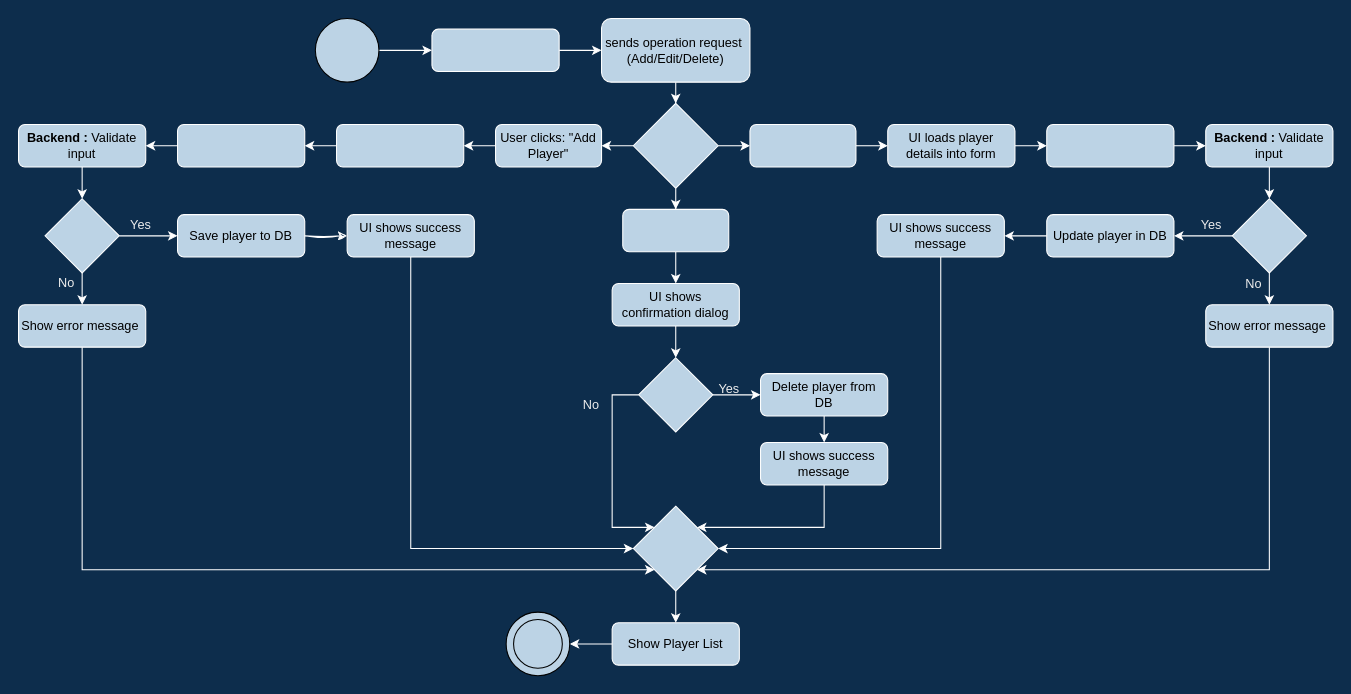
Some shapes in this 1351 by 694 pixel diagram are drawn without their labels. The shapes that lost their labels are listed below. From the top down, each one's centre as x and y in pixels, then its label:
point 495,50: Open Manage Players Page
point 240,145: User enters data
point 399,145: UI opens Add Player Form
point 802,145: User clicks: "Edit Player"
point 1110,145: User edits data
point 675,230: User clicks “Delete"
